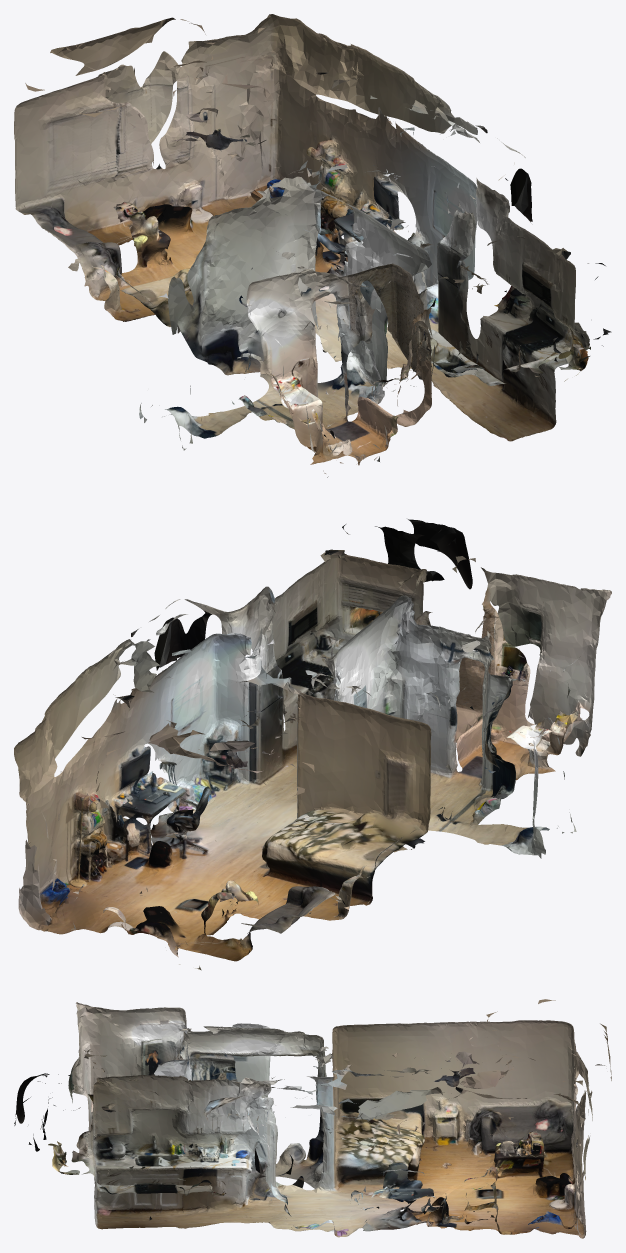
The model's file is room.glb.
3 views of the same model, one above another, from view 1: azimuth 30°, elevation 25°; view 2: azimuth 150°, elevation 25°; view 3: azimuth 270°, elevation 25° (orthographic). The views are drawn at different scales.
Size of the model in its own units: 6.39 by 3.09 by 11.03.
3 materials, 3 textured.
